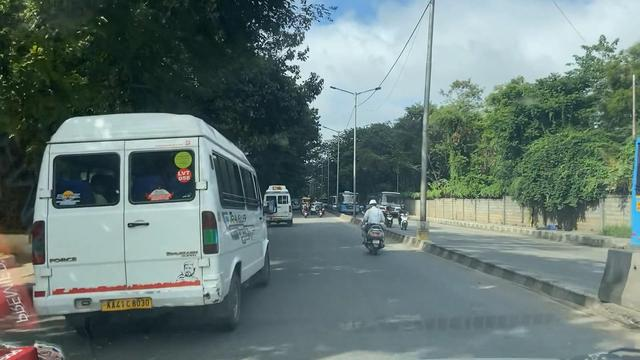HMV: (39, 114, 277, 333), (265, 176, 298, 227)
LMV: (357, 201, 392, 261)
